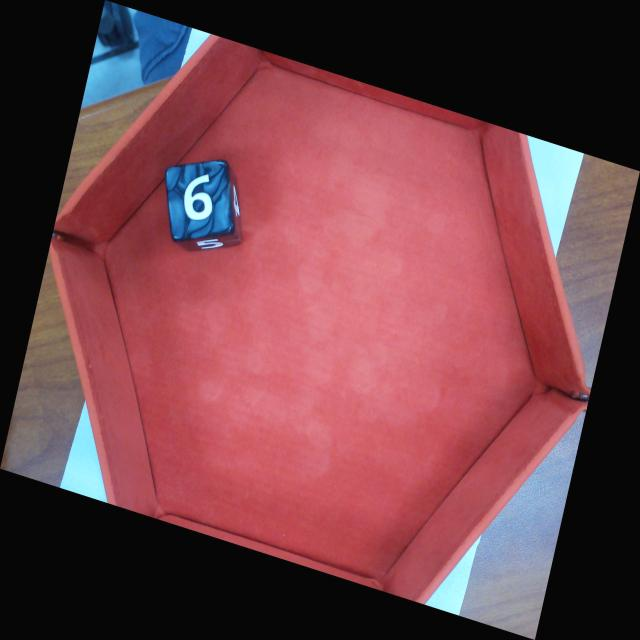dice: (165, 159, 233, 241)
